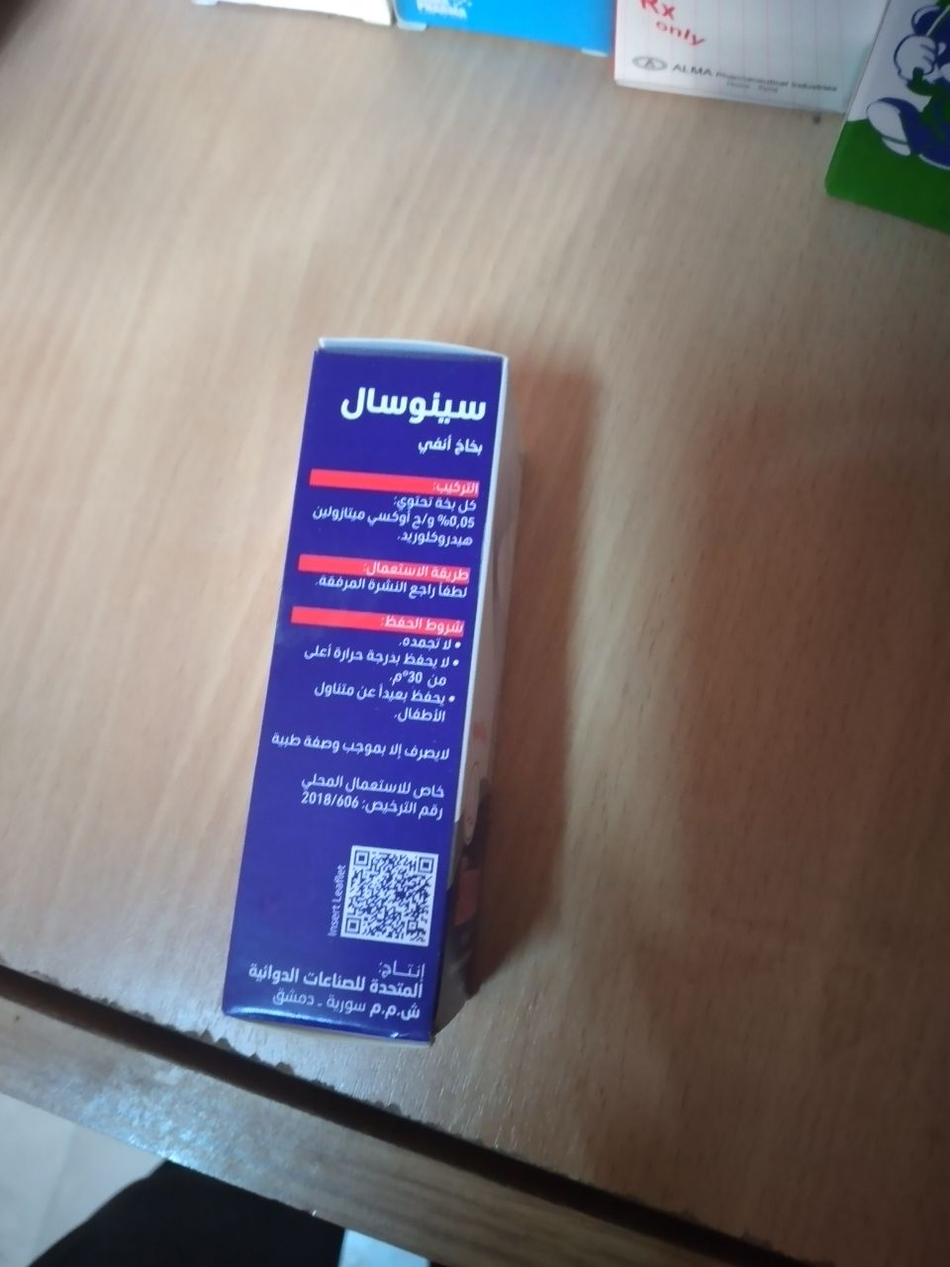Medicine: (214, 323, 501, 1062)
